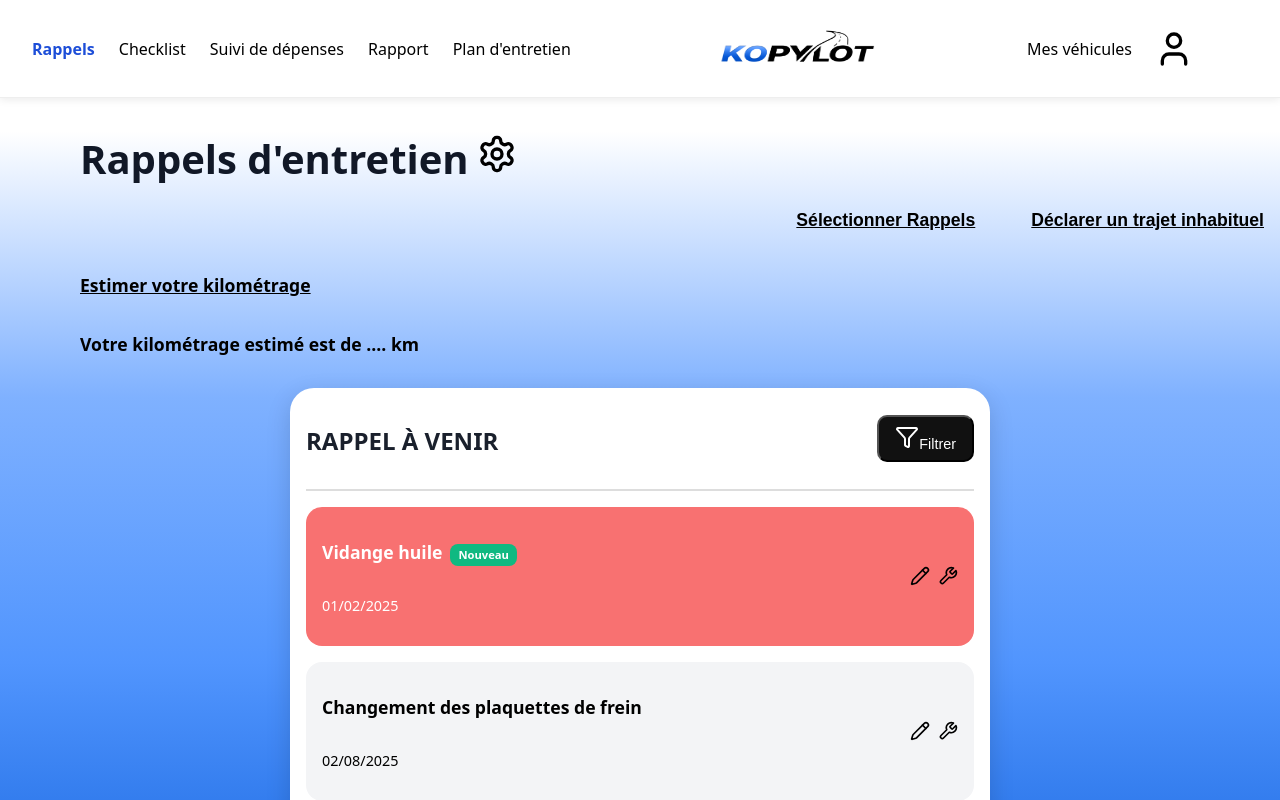
RappelsPage - Couverture complète › modifie les paramètres de notification
The width and height of the screenshot is (1280, 800).
Click the icon with class "clickable" next to "Rappels d'entretien". click: (497, 159)
box: [477, 131, 517, 186]
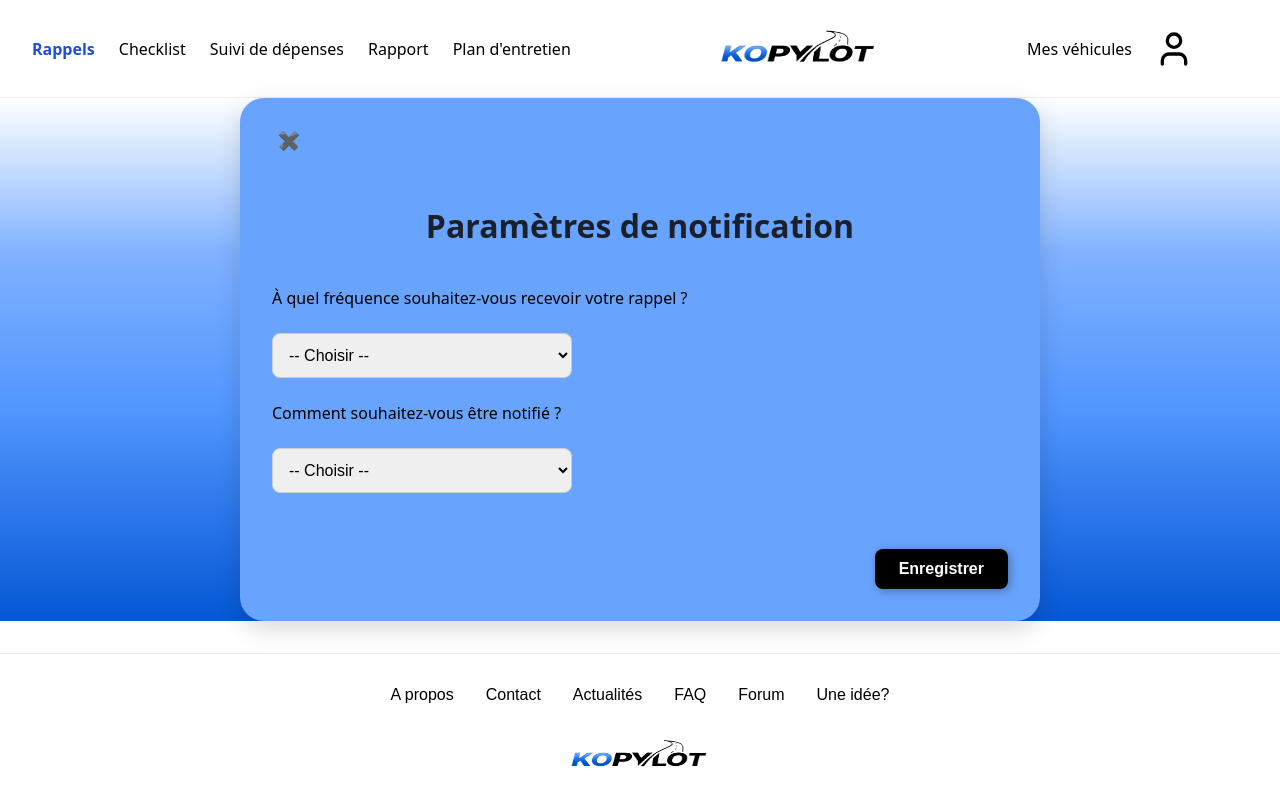
Select "1 mois avant (recommandé)" in the 1st dropdown. click: (422, 356)
box: [272, 333, 572, 378]
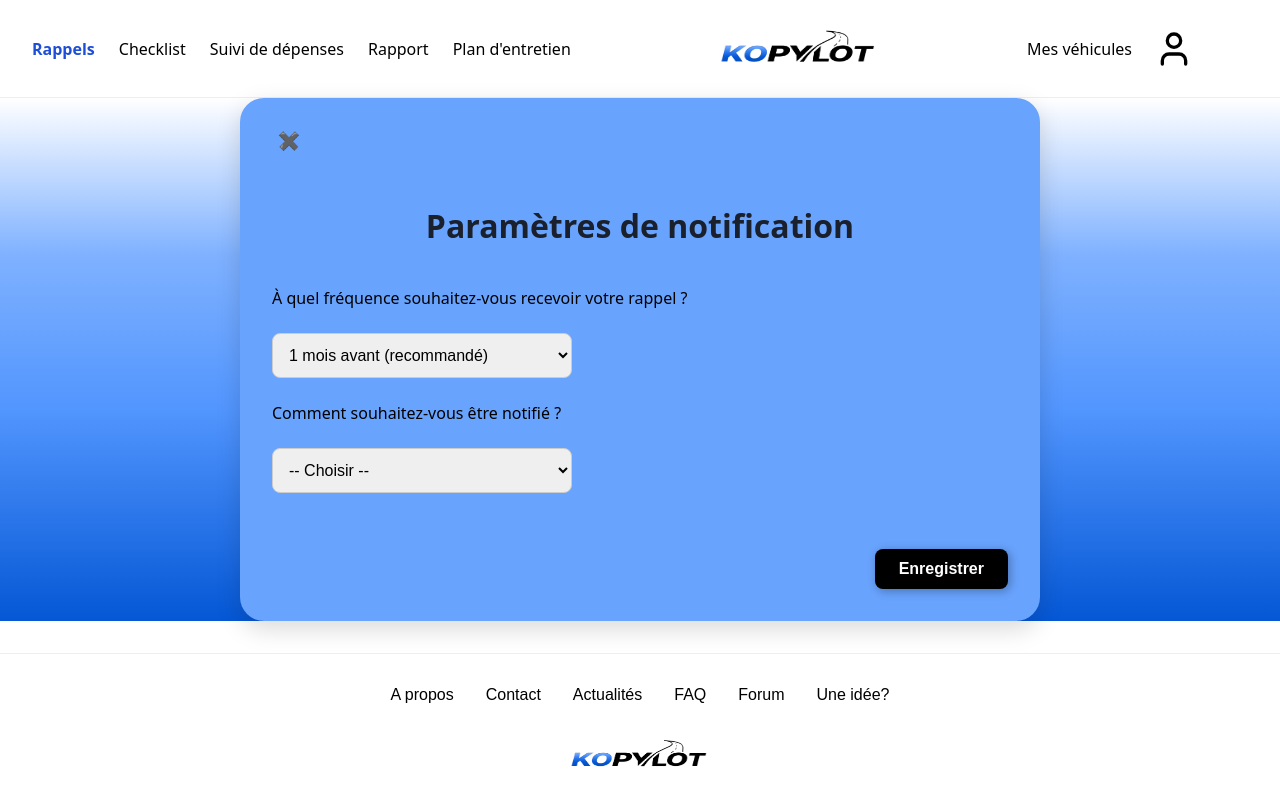
Select "Email" in the 2nd dropdown. click: (422, 471)
box: [272, 448, 572, 493]
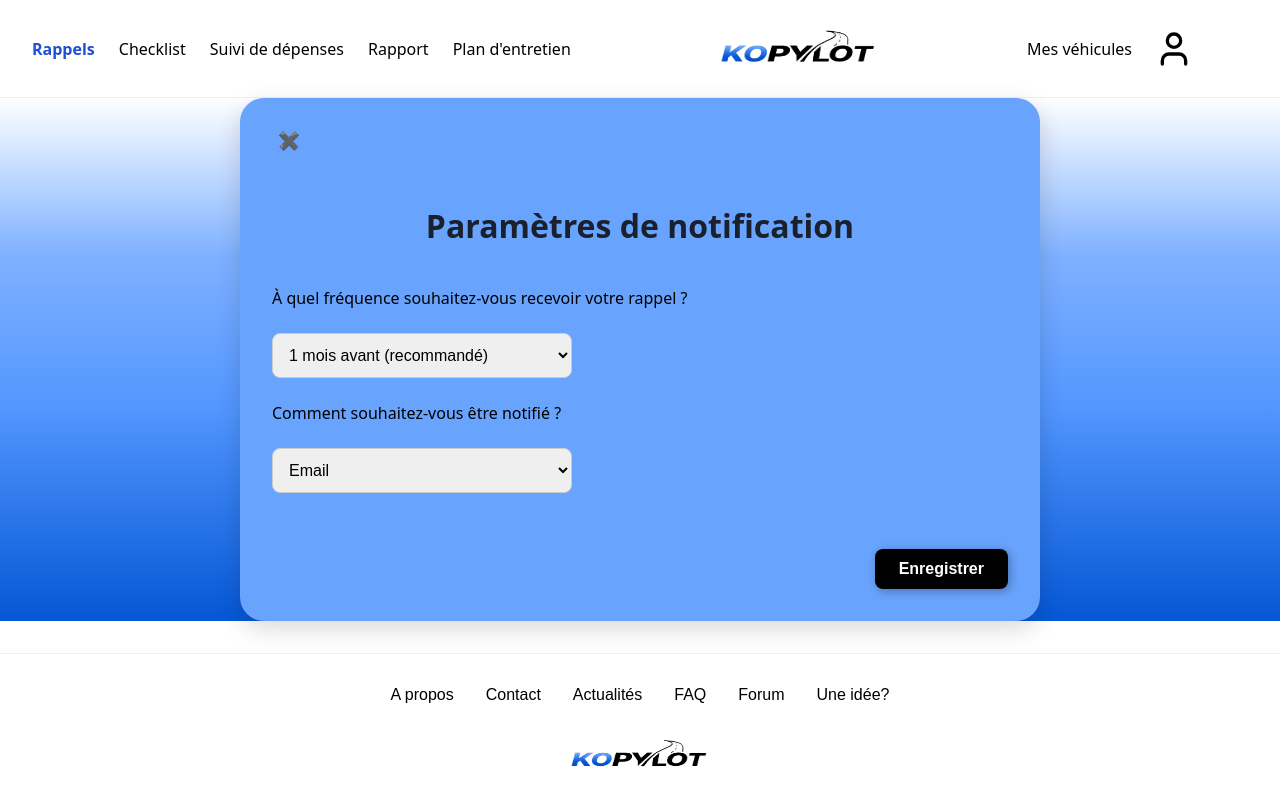
Click the button "Enregistrer". click: (942, 569)
box: [875, 549, 1008, 589]
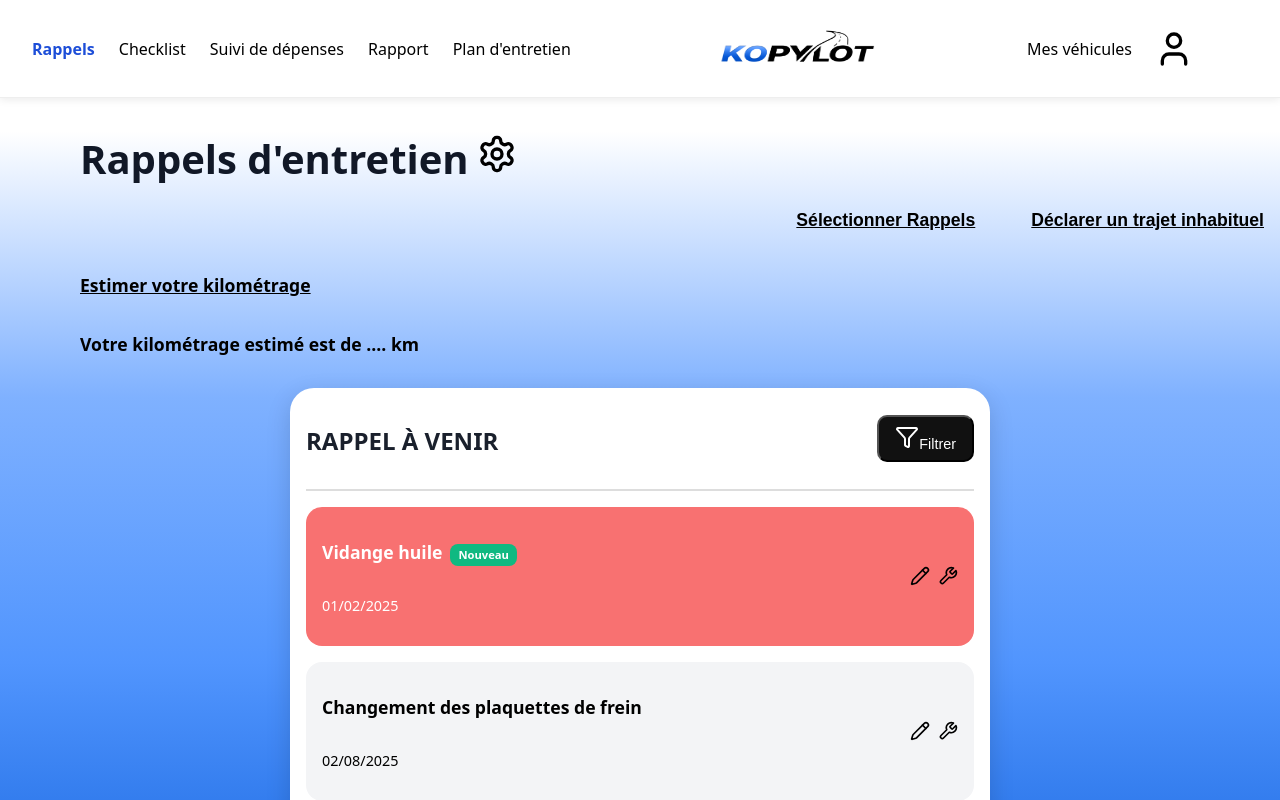
expect the heading "Rappels d'entretien" is shown: met, box [80, 131, 517, 186]
